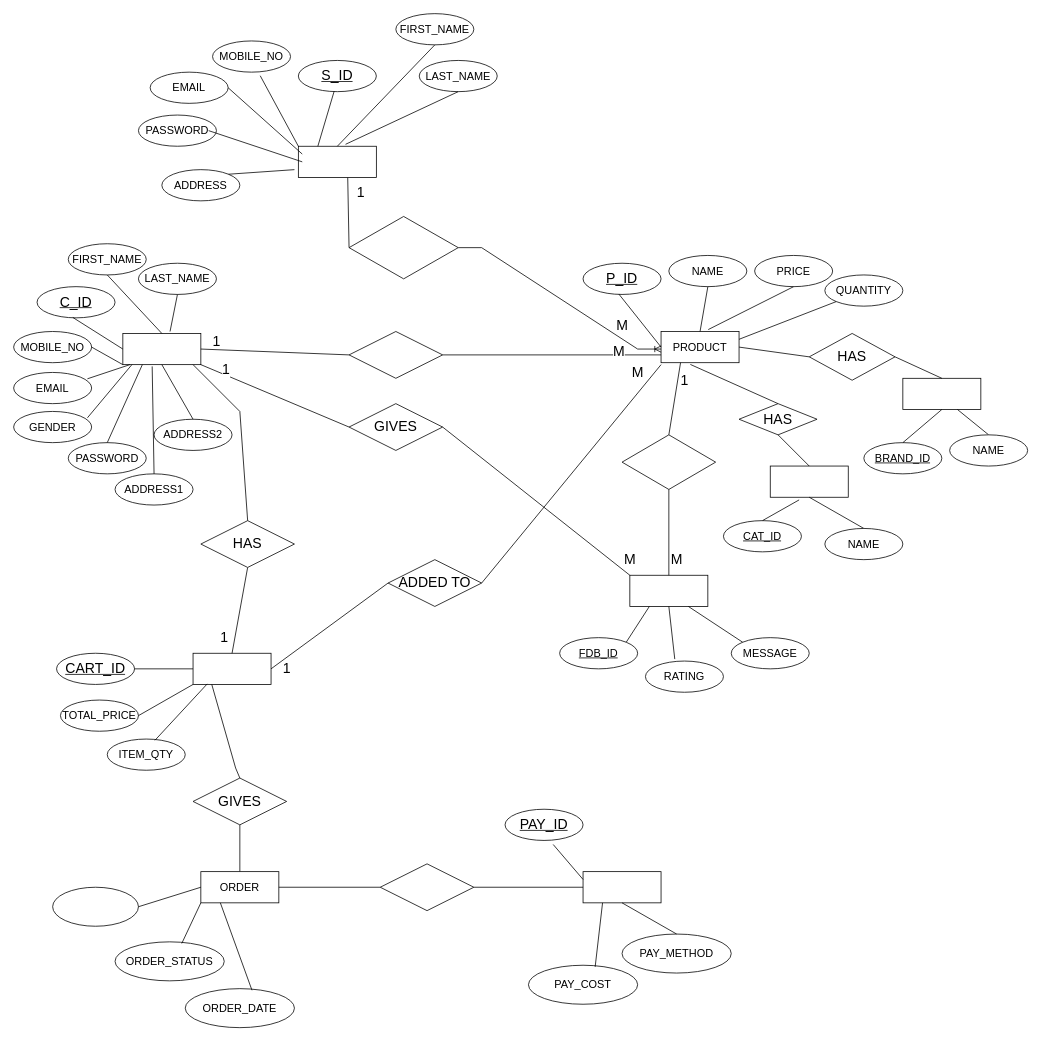
This 1041x1041 diagram has some shape labels left out. Here are the shapes that lost their labels. From the top down, the centre of each, then its label:
At [337,161]: "SUPPLIER".
At [403,247]: "SUPPLIES".
At [161,349]: "CUSTOMER".
At [395,354]: "BUYS".
At [941,394]: "BANDS".
At [668,461]: "CONTAINS".
At [808,481]: "CATEGORY".
At [668,590]: "FEEDBACK".
At [231,668]: "CART".
At [95,906]: "ORDER_ID".
At [426,887]: "MAKE".
At [621,887]: "PAYMENT".
